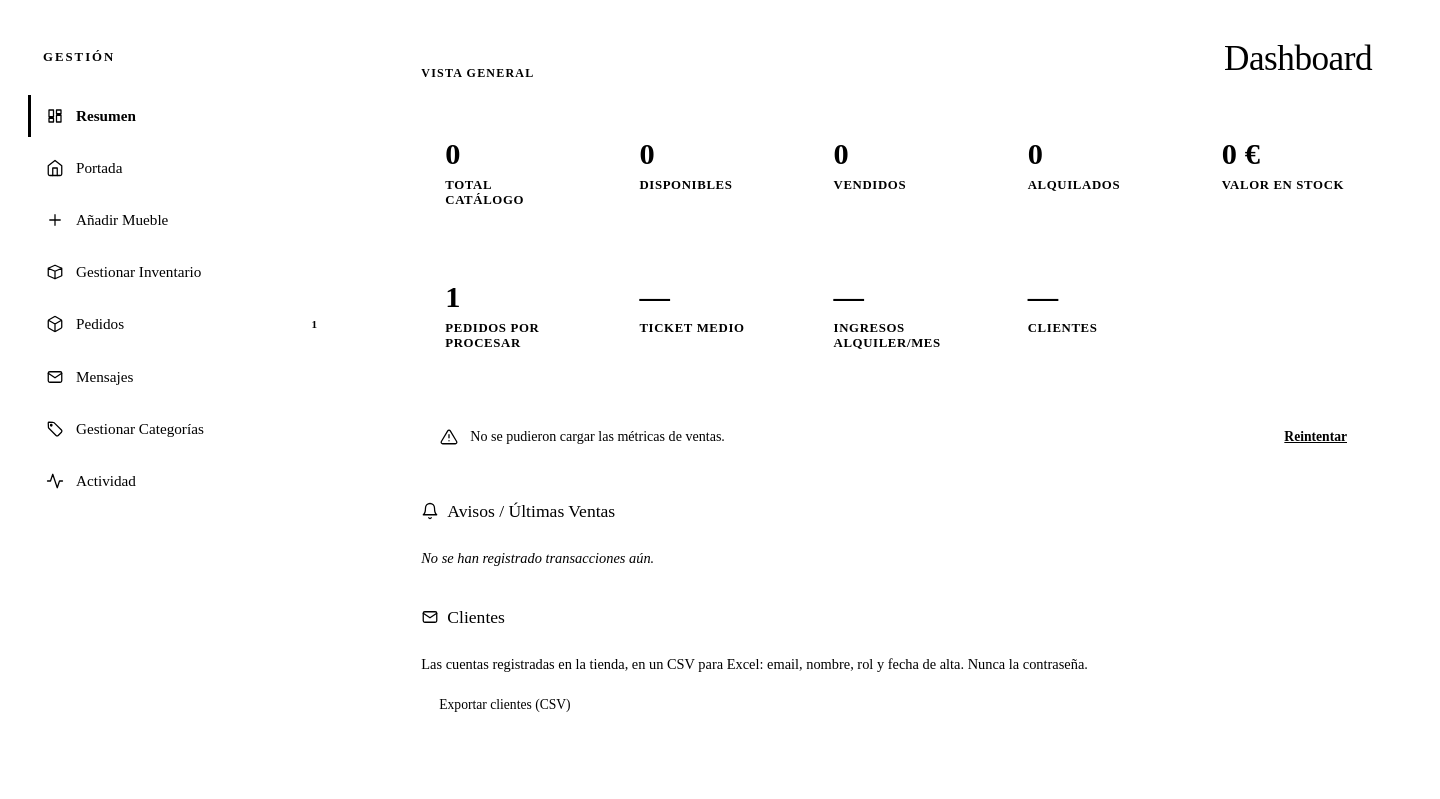
Pedidos — listado › los productos con su precio (y "alquiler/día" en los alquileres), la cantidad por defecto 1 y el total
Click the button "Pedidos 1".
click(100, 324)  # box [28,303,341,346]
(page scrolled)
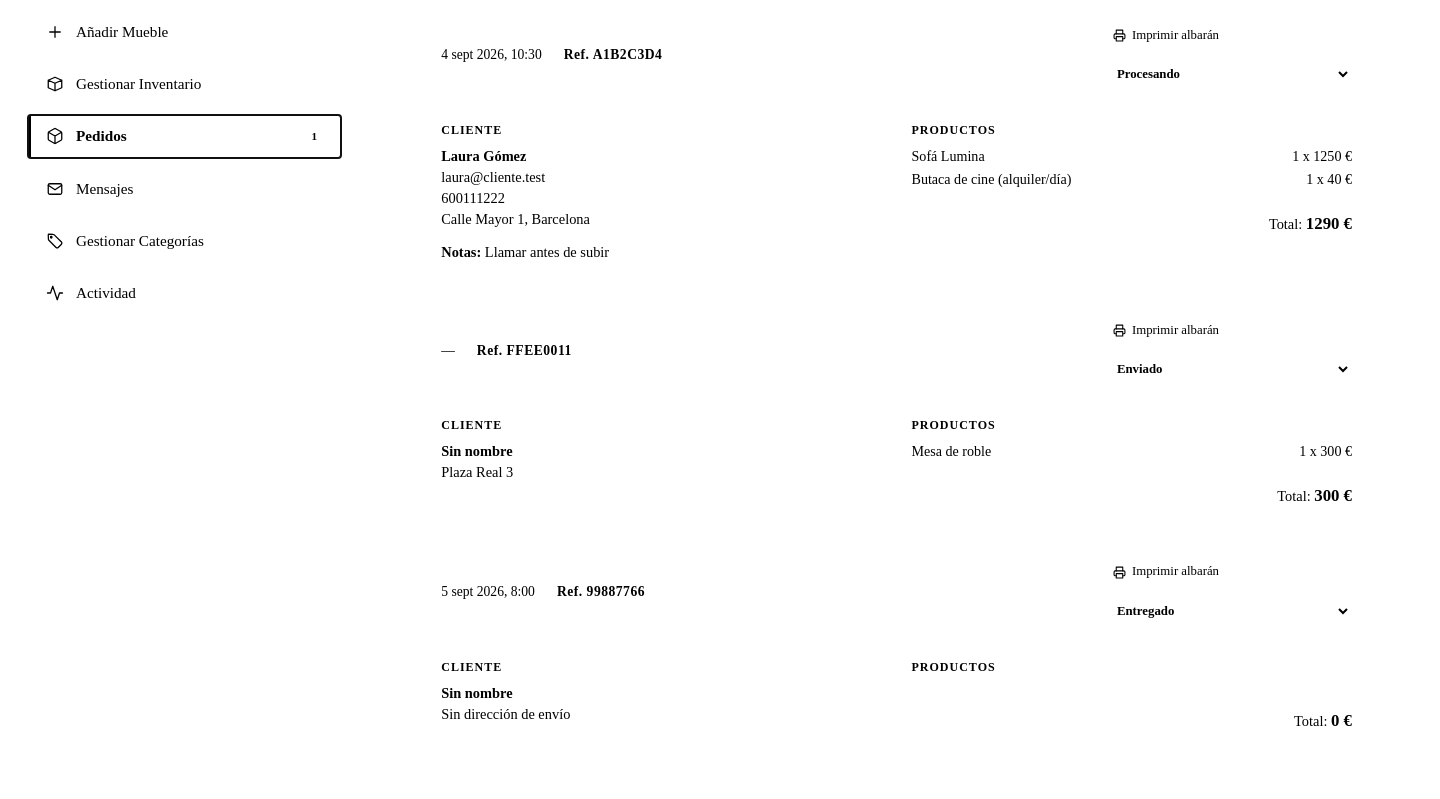
Now the text "Sofá Lumina" is shown, box [912,148,985,165]
Now the text "1 x 1250 €" is shown, box [1292,148,1352,165]
Now the text "Butaca de cine (alquiler/día)" is shown, box [912,171,1071,188]
